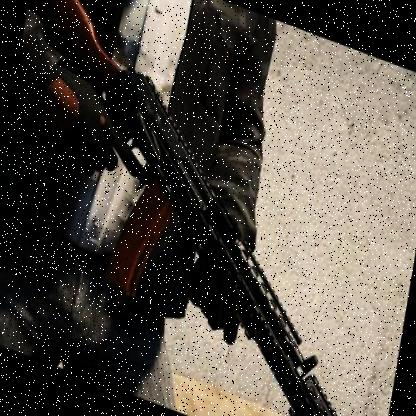rifle: (0, 0, 398, 416)
